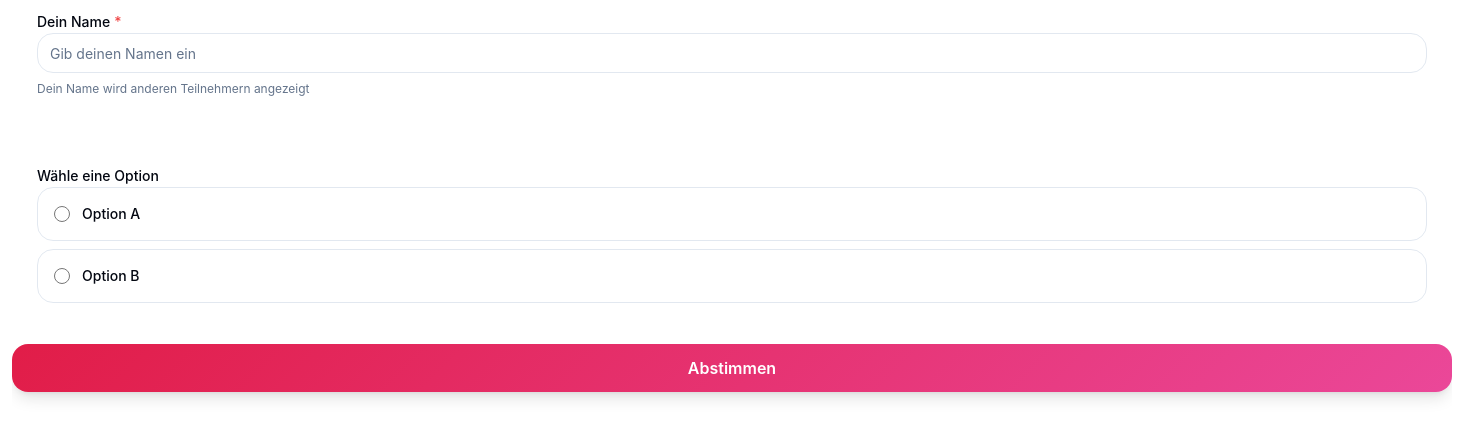
it: VotingForm › shows validation error when submitting without selecting an option
Fill in name but don't select an option
Type "Test User" into the field with placeholder "Gib deinen Namen ein" at (732, 53), box [37,33,1427,73]
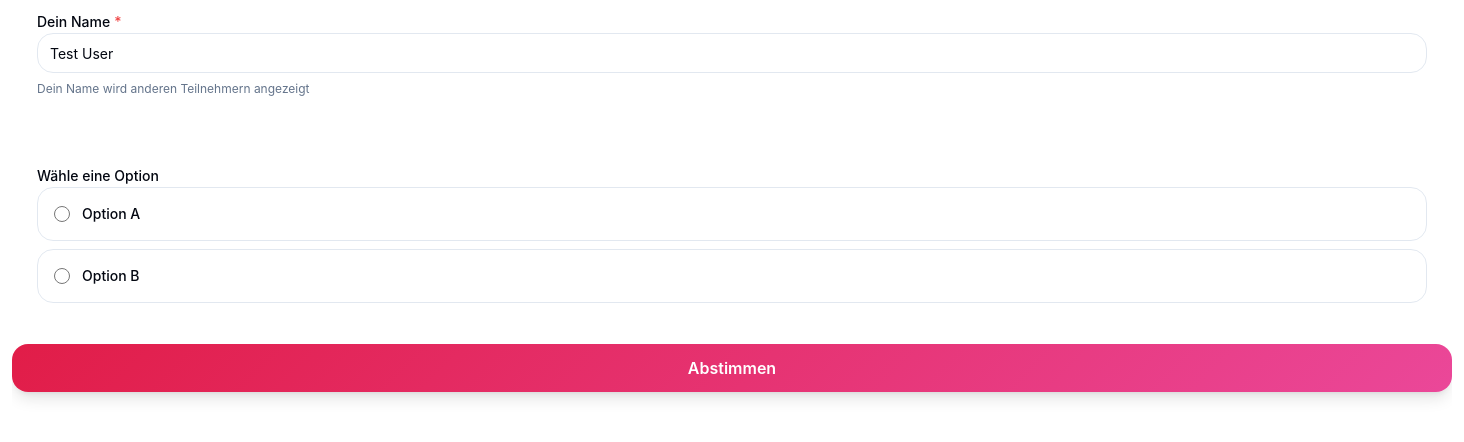
Click the button "Abstimmen" at (732, 368), box [12,344,1452,392]
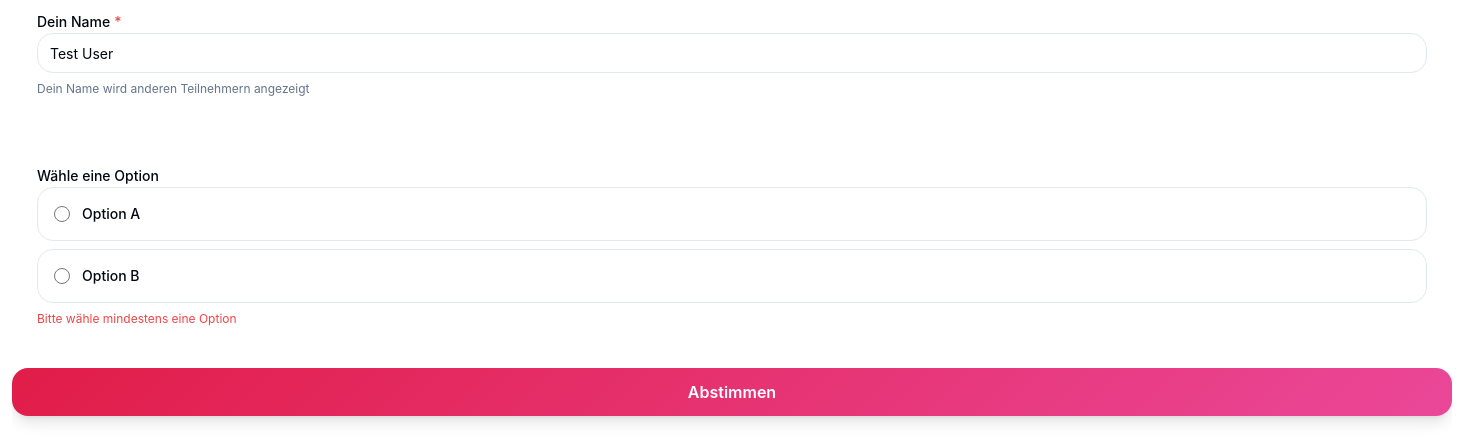
Expected: the text "Bitte wähle mindestens eine Option" is shown, [37,311,237,326]
